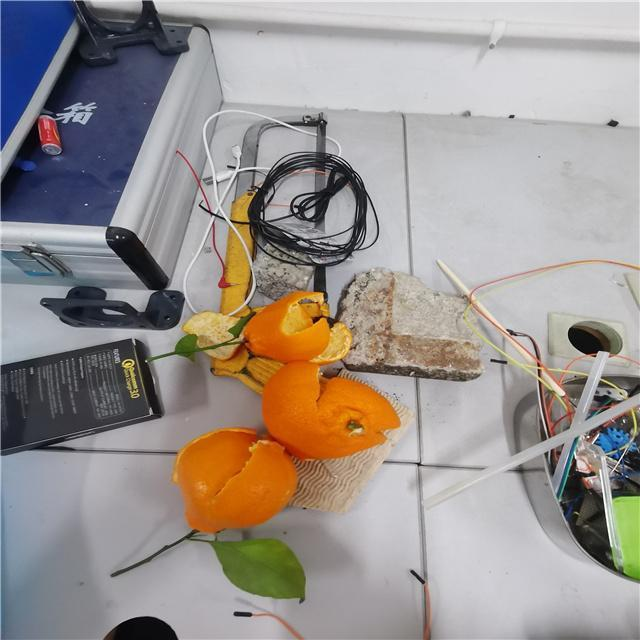orange peel: (240, 366, 427, 472), (172, 425, 299, 535), (236, 289, 354, 366)
